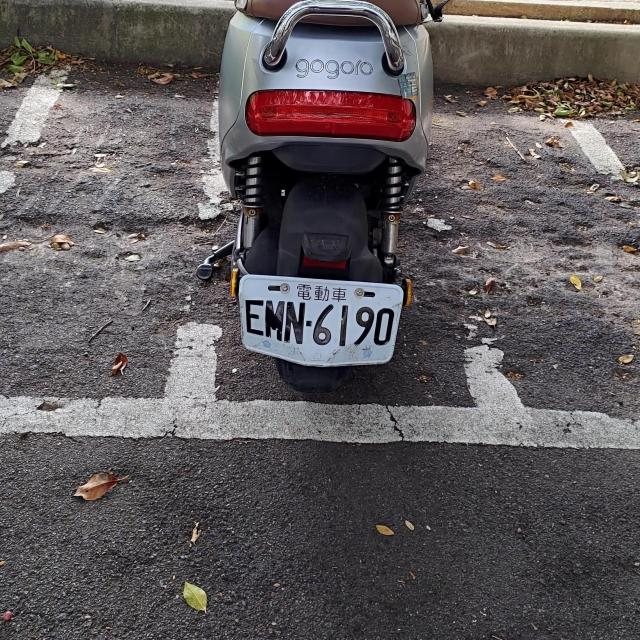W: (237, 276, 404, 367)
